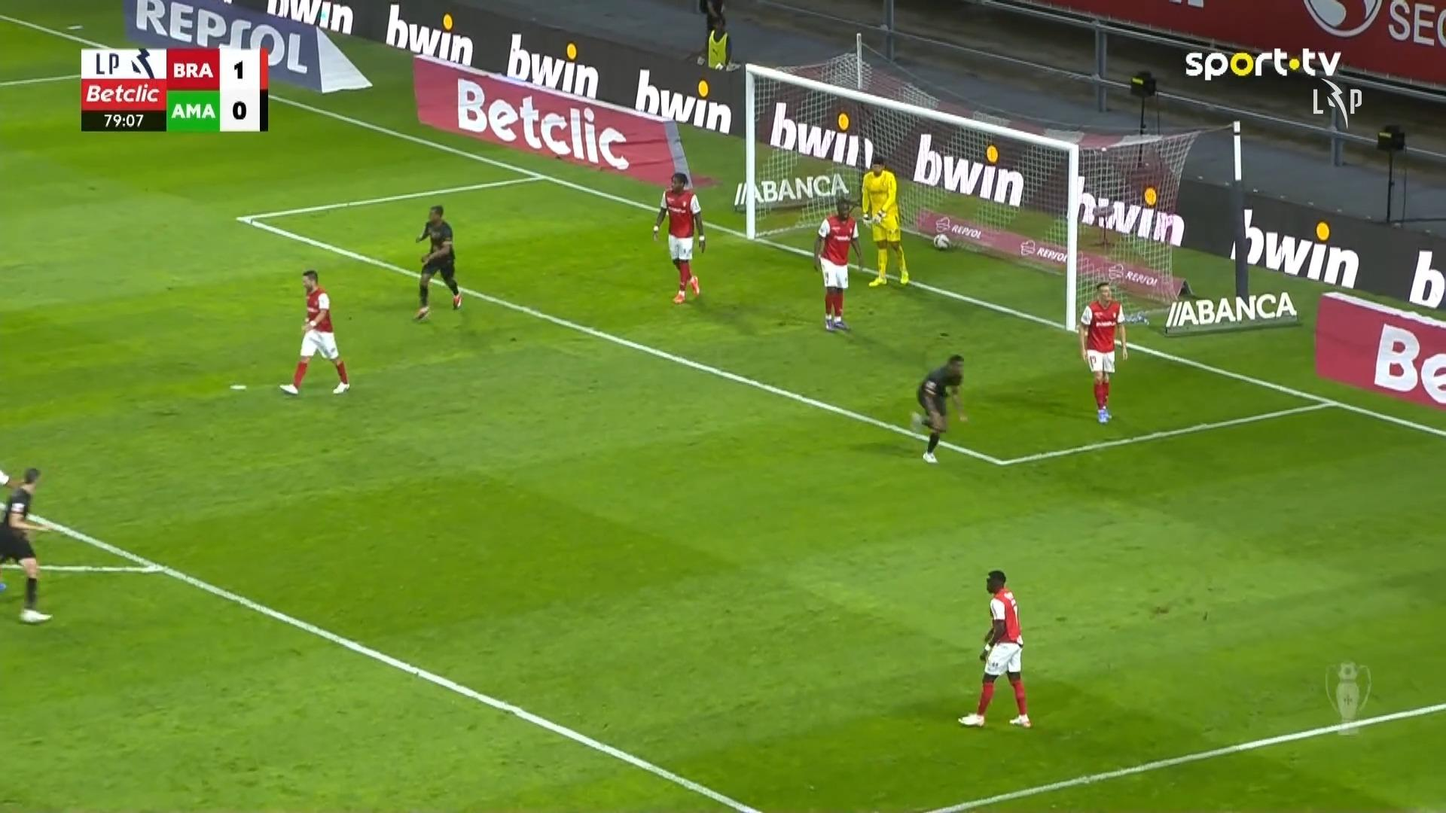ball: (932, 233, 949, 250)
goalkeeper: (860, 154, 911, 288)
player: (957, 569, 1032, 729), (279, 269, 350, 395), (0, 466, 53, 624), (651, 172, 706, 304), (1077, 281, 1127, 424), (813, 193, 863, 331), (910, 353, 968, 464), (411, 204, 462, 321)
